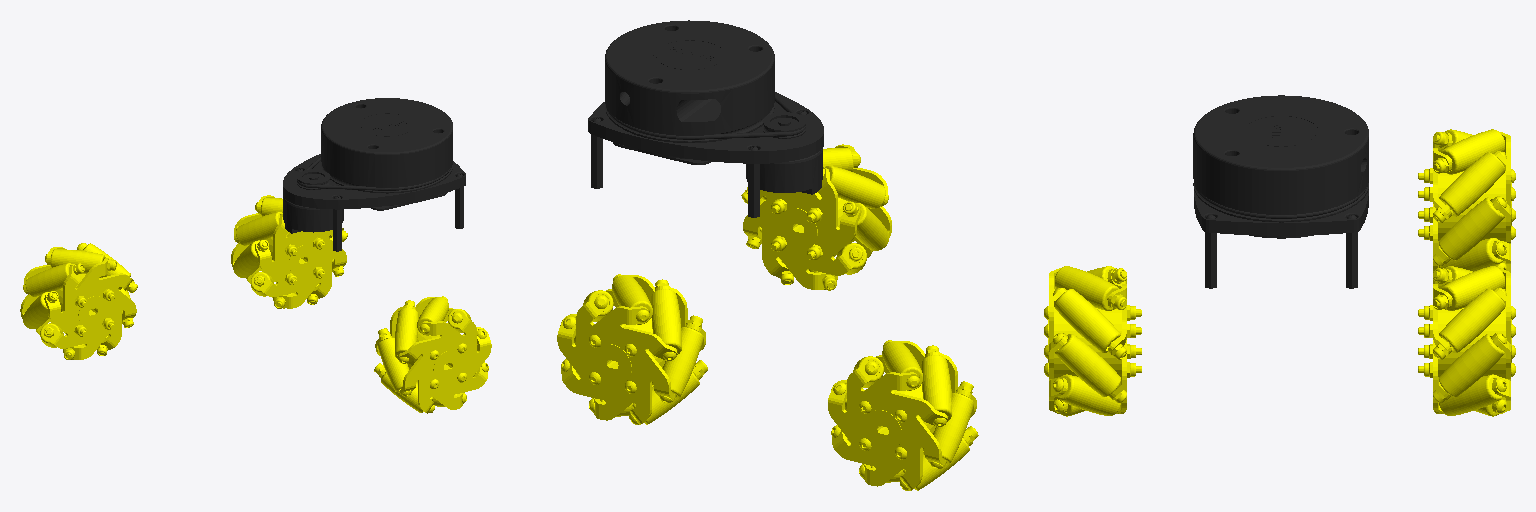
The robot description file, URDF, robot "mecanum_car":
<?xml version="1.0" encoding="utf-8"?>
<!-- This URDF was automatically created by SolidWorks to URDF Exporter! Originally created by [author] ([email redacted]) 
     Commit Version: 1.5.1-0-g916b5db  Build Version: 1.5.7152.31018
     For more information, please see http://wiki.ros.org/sw_urdf_exporter -->
<robot name="mecanum_car">


  <!-- Gazebo -->

  <gazebo>
    <plugin name="gazebo_ros_control" filename="libgazebo_ros_control.so">
      <robotNamespace>/mecanum_car</robotNamespace>
    </plugin>
  </gazebo>


  <gazebo reference="base_link">
    <kp>100000.0</kp>
    <kd>100.0</kd>
    <mu1>1.5</mu1>
    <mu2>1.5</mu2>
    <fdir1>1 0 0</fdir1>
    <maxVel>1.0</maxVel>
    <minDepth>0.001</minDepth>
    <material>Gazebo/Blue</material>
  </gazebo>



  <gazebo reference="link_left_forward">
    <kp>100000.0</kp>
    <kd>100.0</kd>
    <mu1>1.5</mu1>
    <mu2>1.5</mu2>
    <fdir1>1 0 0</fdir1>
    <maxVel>1.0</maxVel>
    <minDepth>0.001</minDepth>
    <material>Gazebo/Yellow</material>
  </gazebo>



  <gazebo reference="link_right_forward">
    <kp>100000.0</kp>
    <kd>100.0</kd>
    <mu1>1.5</mu1>
    <mu2>1.5</mu2>
    <fdir1>1 0 0</fdir1>
    <maxVel>1.0</maxVel>
    <minDepth>0.001</minDepth>
    <material>Gazebo/Yellow</material>
  </gazebo>



  <gazebo reference="link_left_back">
    <kp>100000.0</kp>
    <kd>100.0</kd>
    <mu1>1.5</mu1>
    <mu2>1.5</mu2>
    <fdir1>1 0 0</fdir1>
    <maxVel>1.0</maxVel>
    <minDepth>0.001</minDepth>
    <material>Gazebo/Yellow</material>
  </gazebo>



  <gazebo reference="link_right_back">
    <kp>100000.0</kp>
    <kd>100.0</kd>
    <mu1>1.5</mu1>
    <mu2>1.5</mu2>
    <fdir1>1 0 0</fdir1>
    <maxVel>1.0</maxVel>
    <minDepth>0.001</minDepth>
    <material>Gazebo/Yellow</material>
  </gazebo>



  <gazebo reference="link_rplidarA1">
    <kp>100000.0</kp>
    <kd>100.0</kd>
    <mu1>1.5</mu1>
    <mu2>1.5</mu2>
    <fdir1>1 0 0</fdir1>
    <maxVel>1.0</maxVel>
    <minDepth>0.001</minDepth>
    <material>Gazebo/Gray</material>
  </gazebo>







  <link name="base_link">
    <inertial>
      <origin xyz="-5.1457E-09 5.1488E-09 0.0011571" rpy="0 0 0" />
      <mass value="0.20851" />
      <inertia ixx="0.00014409" ixy="1.2229E-09" ixz="-1.3529E-11" iyy="0.000526" iyz="1.6049E-11" izz="0.00065951" />
    </inertial>
    <visual>
      <origin xyz="0 0 0" rpy="0 0 0" />
      <geometry>
        <mesh filename="package://mecanum_description/meshes/base_link.STL" />
      </geometry>
      <material name="blue">
        <color rgba="0.0 0.0 0.8 1.0"/>
      </material>
    </visual>
    <collision>
      <origin xyz="0 0 0" rpy="0 0 0" />
      <geometry>
        <mesh filename="package://mecanum_description/meshes/base_link.STL" />
      </geometry>
    </collision>
  </link>
  <link name="link_left_forward">
    <inertial>
      <origin xyz="4.9405E-14 5.1716E-14 -0.016049" rpy="0 0 0" />
      <mass value="0.053624" />
      <inertia ixx="5.7347E-06" ixy="3.7019E-15" ixz="4.285E-18" iyy="5.734E-06" iyz="-6.0498E-19" izz="6.5431E-06" />
    </inertial>
    <visual>
      <origin xyz="0 0 0" rpy="0 0 0" />
      <geometry>
        <mesh filename="package://mecanum_description/meshes/link_left_forward.STL" />
      </geometry>
      <material name="brightyellow">
        <color rgba="1.0 0.9921568627450981 0.00392156862745098 1.0" />
      </material>
    </visual>
    <collision>
      <origin xyz="0 0 0" rpy="0 0 0" />
      <geometry>
        <mesh filename="package://mecanum_description/meshes/link_left_forward.STL" />
      </geometry>
    </collision>
  </link>
  <joint name="joint_left_forward" type="continuous">
    <origin xyz="0.06425 0.092237 -0.012873" rpy="-1.5708 0 0" />
    <parent link="base_link" />
    <child link="link_left_forward" />
    <axis xyz="0 0 1" />
    <dynamics damping="0.1" friction="0.1" />
  </joint>
  <link name="link_right_forward">
    <inertial>
      <origin xyz="2.4092E-14 1.7994E-14 0.016049" rpy="0 0 0" />
      <mass value="0.053624" />
      <inertia ixx="5.7347E-06" ixy="4.1621E-15" ixz="-4.3954E-18" iyy="5.734E-06" iyz="2.2808E-19" izz="6.5431E-06" />
    </inertial>
    <visual>
      <origin xyz="0 0 0" rpy="0 0 0" />
      <geometry>
        <mesh filename="package://mecanum_description/meshes/link_right_forward.STL" />
      </geometry>
      <material name="brightyellow">
        <color rgba="1.0 0.9921568627450981 0.00392156862745098 1.0" />
      </material>
    </visual>
    <collision>
      <origin xyz="0 0 0" rpy="0 0 0" />
      <geometry>
        <mesh filename="package://mecanum_description/meshes/link_right_forward.STL" />
      </geometry>
    </collision>
  </link>
  <joint name="joint_right_forward" type="continuous">
    <origin xyz="0.06425 -0.092237 -0.012873" rpy="-1.5708 0 0" />
    <parent link="base_link" />
    <child link="link_right_forward" />
    <axis xyz="0 0 1" />
    <dynamics damping="0.1" friction="0.1" />
  </joint>
  <link name="link_left_back">
    <inertial>
      <origin xyz="5.0265E-14 5.0931E-14 -0.016049" rpy="0 0 0" />
      <mass value="0.053624" />
      <inertia ixx="5.7347E-06" ixy="3.7079E-15" ixz="-1.2646E-18" iyy="5.734E-06" iyz="1.4228E-18" izz="6.5431E-06" />
    </inertial>
    <visual>
      <origin xyz="0 0 0" rpy="0 0 0" />
      <geometry>
        <mesh filename="package://mecanum_description/meshes/link_left_back.STL" />
      </geometry>
      <material name="brightyellow">
        <color rgba="1.0 0.9921568627450981 0.00392156862745098 1.0" />
      </material>
    </visual>
    <collision>
      <origin xyz="0 0 0" rpy="0 0 0" />
      <geometry>
        <mesh filename="package://mecanum_description/meshes/link_left_back.STL" />
      </geometry>
    </collision>
  </link>
  <joint name="joint_left_back" type="continuous">
    <origin xyz="-0.06425 0.092237 -0.012873" rpy="-1.5708 0 0" />
    <parent link="base_link" />
    <child link="link_left_back" />
    <axis xyz="0 0 1" />
    <dynamics damping="0.1" friction="0.1" />
  </joint>
  <link name="link_right_back">
    <inertial>
      <origin xyz="2.3259E-14 1.7262E-14 0.016049" rpy="0 0 0" />
      <mass value="0.053624" />
      <inertia ixx="5.7347E-06" ixy="4.1609E-15" ixz="1.6088E-18" iyy="5.734E-06" iyz="-7.2378E-18" izz="6.5431E-06" />
    </inertial>
    <visual>
      <origin xyz="0 0 0" rpy="0 0 0" />
      <geometry>
        <mesh filename="package://mecanum_description/meshes/link_right_back.STL" />
      </geometry>
      <material name="brightyellow">
        <color rgba="1.0 0.9921568627450981 0.00392156862745098 1.0" />
      </material>
    </visual>
    <collision>
      <origin xyz="0 0 0" rpy="0 0 0" />
      <geometry>
        <mesh filename="package://mecanum_description/meshes/link_right_back.STL" />
      </geometry>
    </collision>
  </link>
  <joint name="joint_right_back" type="continuous">
    <origin xyz="-0.06425 -0.092237 -0.012873" rpy="-1.5708 0 0" />
    <parent link="base_link" />
    <child link="link_right_back" />
    <axis xyz="0 0 1" />
    <dynamics damping="0.1" friction="0.1" />
  </joint>
  <link name="link_rplidarA1">
    <inertial>
      <origin xyz="-0.0057842 -0.0004951 0.0039383" rpy="0 0 0" />
      <mass value="0.14299" />
      <inertia ixx="4.6277E-05" ixy="-8.5349E-07" ixz="-3.6217E-06" iyy="7.3474E-05" iyz="2.0431E-07" izz="0.00010796" />
    </inertial>
    <visual>
      <origin xyz="0 0 0" rpy="0 0 0" />
      <geometry>
        <mesh filename="package://mecanum_description/meshes/link_rplidarA1.STL" />
      </geometry>
      <material name="grey">
        <color rgba="0.2 0.2 0.2 1.0"/>
      </material>

    </visual>
    <collision>
      <origin xyz="0 0 0" rpy="0 0 0" />
      <geometry>
        <mesh filename="package://mecanum_description/meshes/link_rplidarA1.STL" />
      </geometry>
    </collision>
  </link>
  <joint name="joint_rplidarA1" type="fixed">
    <origin xyz="0.080522 0.00057222 0.0631" rpy="0 0 0" />
    <parent link="base_link" />
    <child link="link_rplidarA1" />
    <axis xyz="0 0 1" />
    <dynamics damping="0.1" friction="0.1" />
  </joint>


</robot>

--- Render facts (derived) ---
The picture shows the robot from 3 angles, left to right: view 1: azimuth 30°, elevation 25°; view 2: azimuth 150°, elevation 25°; view 3: azimuth 270°, elevation 25°; orthographic projection.
Robot: mecanum_car — 6 links, 5 joints (4 continuous, 1 fixed); root link base_link; default pose: every joint at zero.
Visible links, largest first — view 1: link_rplidarA1, link_left_back, link_right_forward, link_left_forward; view 2: link_rplidarA1, link_left_forward, link_left_back, link_right_forward; view 3: link_rplidarA1, link_left_forward, link_right_forward, link_left_back.
Link boxes in pixels (x1,y1,x2,y2): link_rplidarA1: (283, 98, 465, 251); link_left_back: (20, 243, 137, 359); link_right_forward: (374, 296, 491, 413); link_left_forward: (231, 195, 347, 308); link_rplidarA1: (588, 20, 823, 217); link_left_forward: (557, 274, 707, 424); link_left_back: (828, 340, 978, 490); link_right_forward: (741, 144, 891, 290); link_rplidarA1: (1193, 95, 1368, 288); link_left_forward: (1418, 266, 1515, 416); link_right_forward: (1044, 266, 1141, 416); link_left_back: (1418, 129, 1515, 272).
Size in the robot's own frame: 0.2088 by 0.1873 by 0.1285 metres.
4 mesh visuals loaded from 6 distinct referenced files (4 binary STL); not drawn: 2 (reference not matched to a file when rendering).
